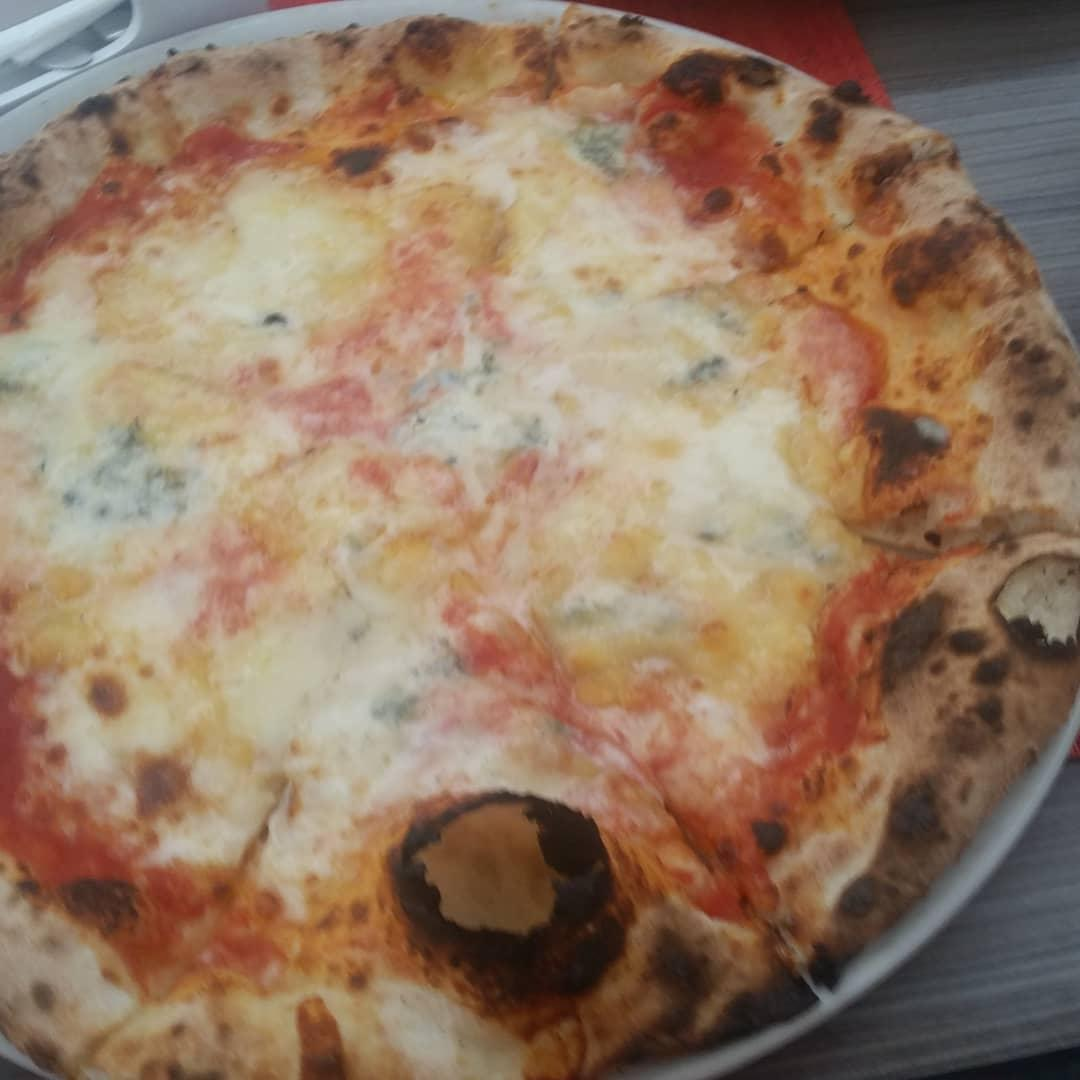Cheese: (0, 404, 851, 579), (0, 580, 746, 736), (20, 267, 730, 403), (158, 170, 670, 267)
Pizza: (0, 15, 1080, 1080)
